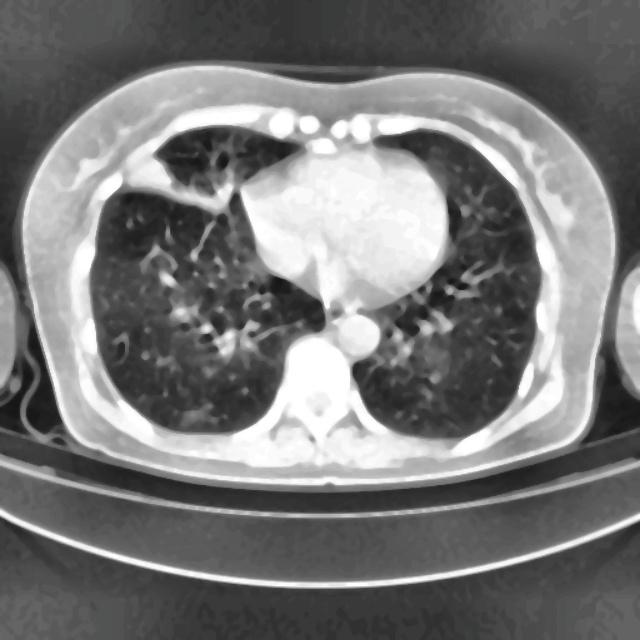covid: (18, 63, 618, 489)
